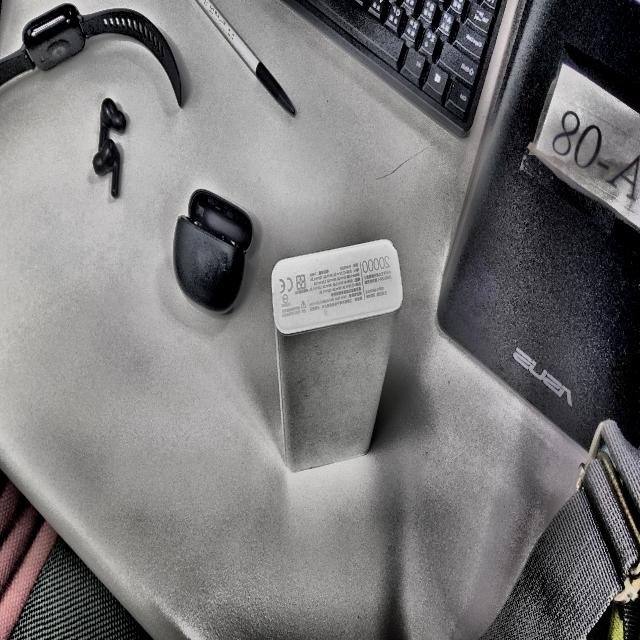Bluetooth headphones: (173, 190, 253, 315), (93, 99, 127, 198)
Electronic watch: (0, 4, 182, 106)
Keyboard: (287, 0, 506, 131)
Power bank: (271, 240, 403, 472)
